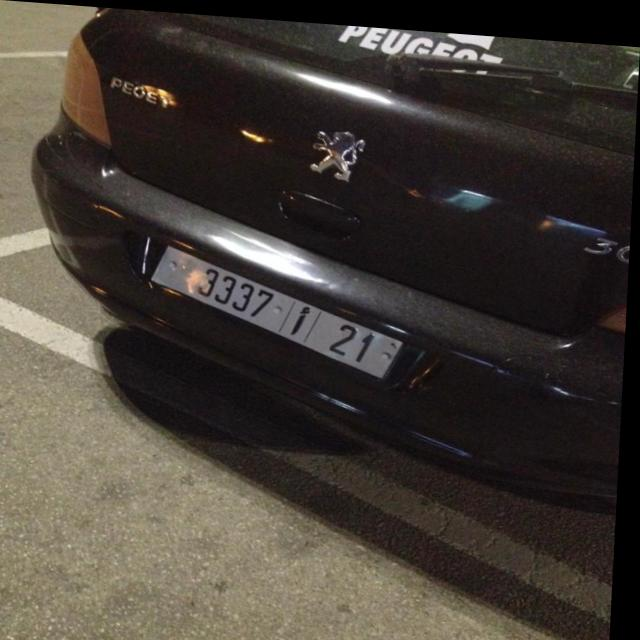License-Plate: (154, 244, 406, 372)
